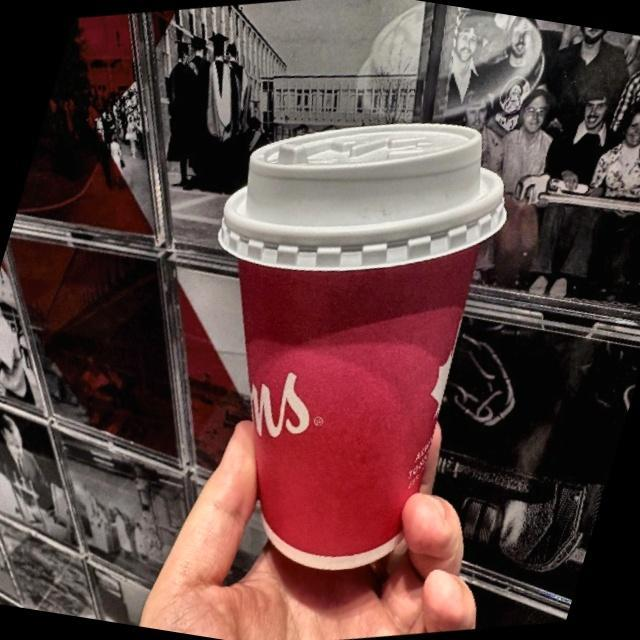timmies: (213, 110, 510, 577)
